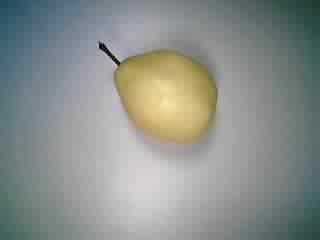pear: (89, 30, 228, 150)
